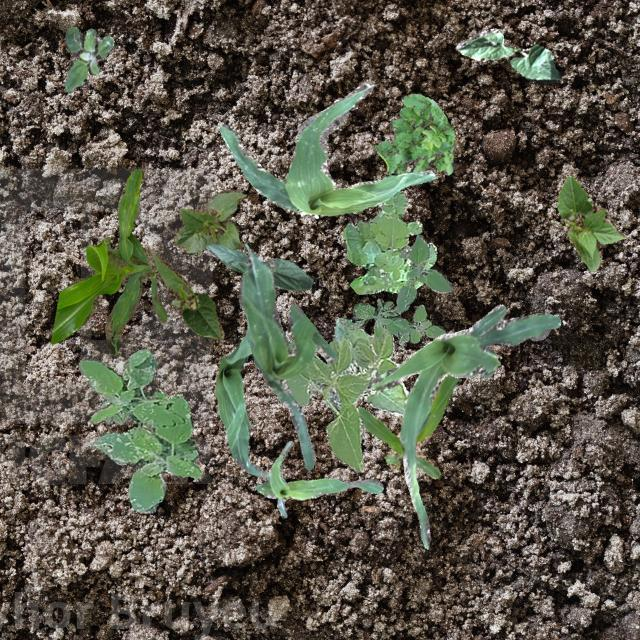crop: (368, 304, 560, 548), (218, 80, 434, 218), (238, 248, 336, 470), (50, 168, 166, 354), (284, 316, 408, 470), (357, 373, 458, 478), (255, 439, 382, 516), (214, 334, 266, 476), (145, 250, 223, 340), (556, 174, 624, 270), (454, 26, 560, 84), (205, 242, 312, 290), (173, 188, 245, 252)
weed: (76, 350, 200, 512), (336, 234, 452, 344), (342, 190, 436, 294), (374, 92, 454, 174), (64, 26, 114, 91), (98, 398, 128, 423)
